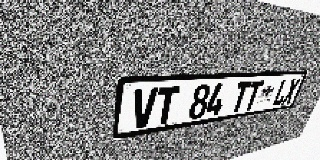4: (204, 83, 229, 117)
8: (187, 84, 213, 120)
L: (271, 79, 292, 106)
T: (153, 86, 180, 126), (229, 81, 252, 113), (242, 81, 265, 111)
V: (130, 88, 158, 130)
X: (281, 78, 301, 105)
